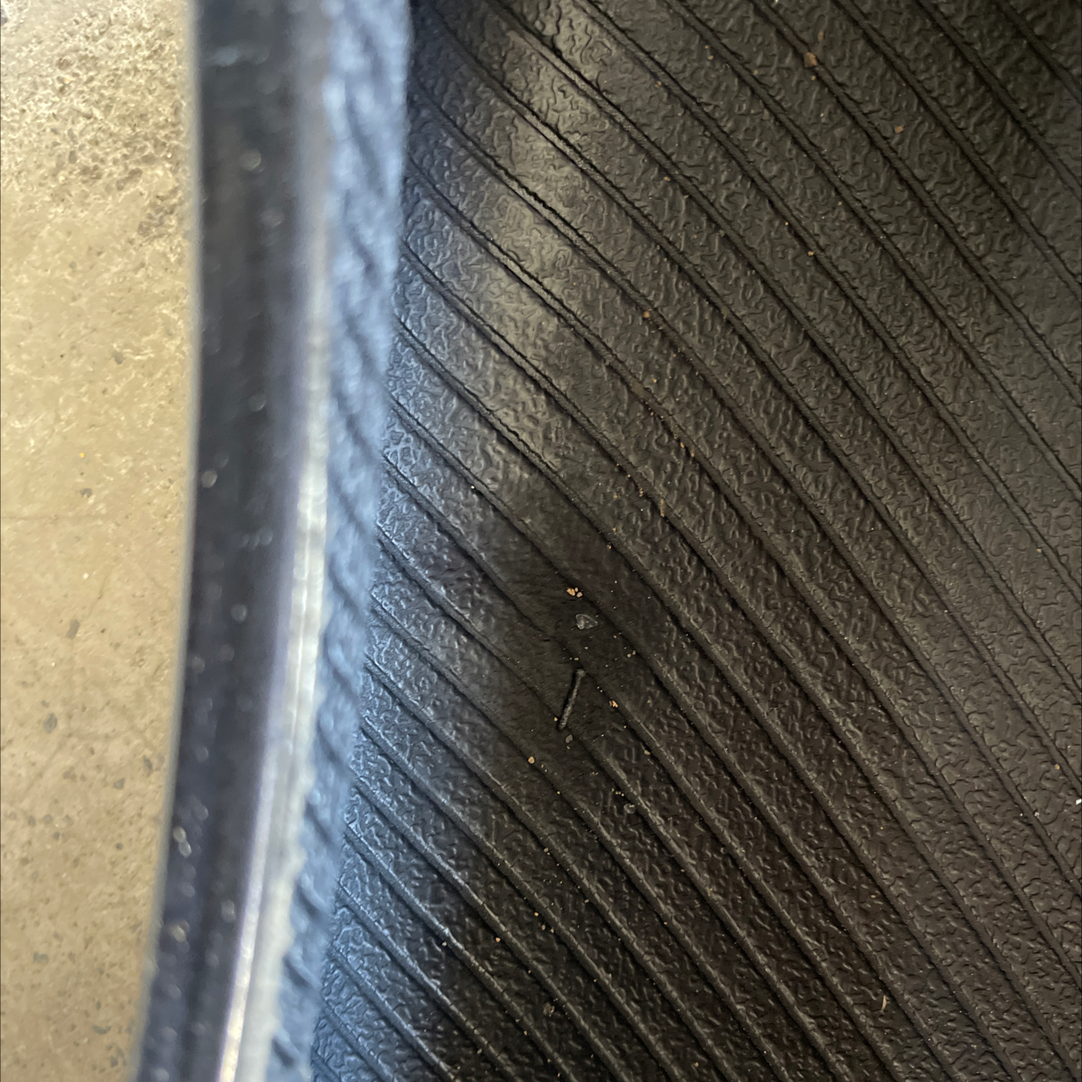CBU: (509, 546, 650, 765)
